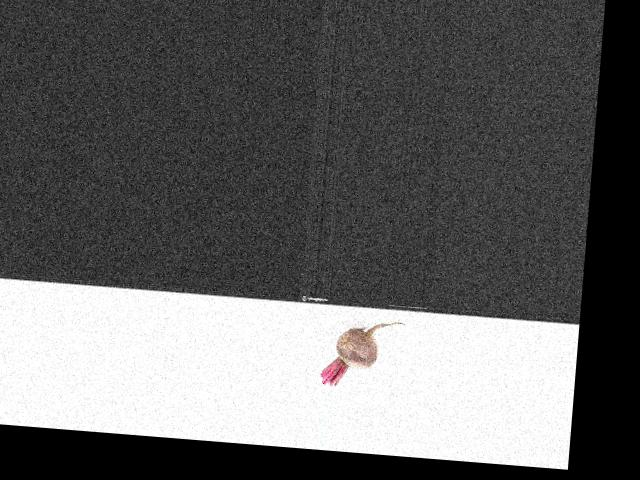beet: (320, 316, 405, 390)
